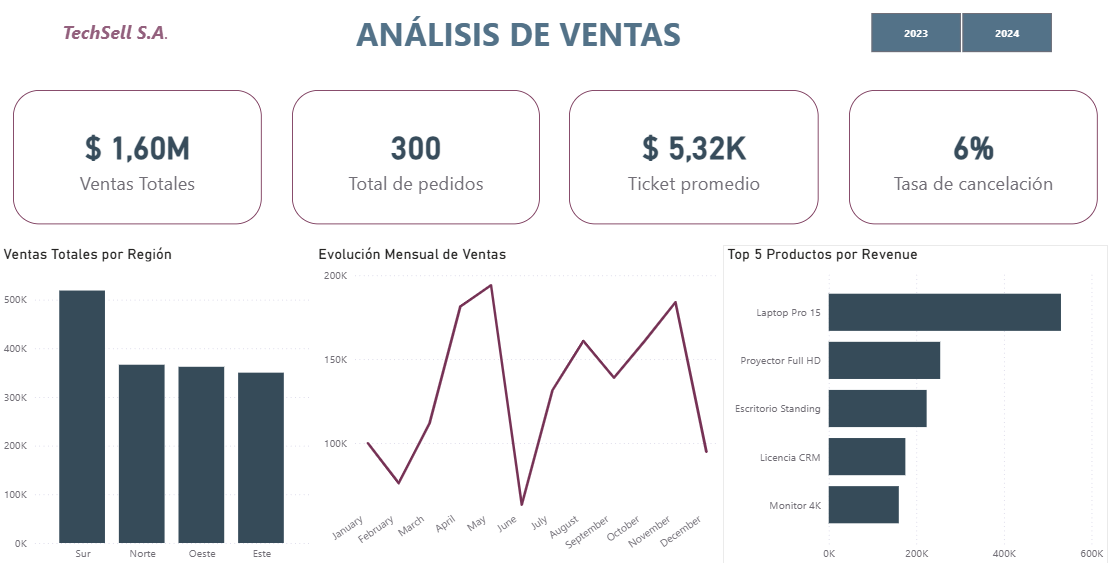

This screenshot's page, from the dashboard's own definition file:
{"tool":"powerbi","page":{"name":"Page 1","canvas":[1280,720],"ordinal":0},"visuals":[{"type":"card","fields":{"Values":["_medidas.Ventas Totales"]},"box":[16.2,143.1,287.3,154.6],"z":0},{"type":"card","fields":{"Values":["_medidas.Tasa de cancelación"]},"box":[980.8,143.1,287.3,154.6],"z":1000},{"type":"card","fields":{"Values":["_medidas.Total de pedidos"]},"box":[337.7,143.1,286.2,154.6],"z":2000},{"type":"card","fields":{"Values":["_medidas.Ticket promedio"]},"box":[658.1,143.1,288.5,154.6],"z":3000},{"type":"columnChart","title":"Ventas Totales por Región","fields":{"Category":["dim_clientes.region"],"Y":["_medidas.Ventas Totales"]},"box":[0,321.9,363.5,373.8],"z":4000},{"type":"clusteredBarChart","title":"Top 5 Productos por Revenue","fields":{"Category":["dim_productos.nombre_producto"],"Y":["_medidas.Ventas Totales"]},"box":[835.4,321.9,444.2,373.8],"z":5000},{"type":"lineChart","title":"Evolución Mensual de Ventas","fields":{"Category":["fact_pedidos.fecha_pedido.Variation.Date Hierarchy.Month"],"Y":["_medidas.Ventas Totales"]},"box":[363.5,321.9,471.9,373.8],"z":6000},{"type":"slicer","fields":{"Values":["fact_pedidos.fecha_pedido.Variation.Date Hierarchy.Year"]},"box":[980.3,47.5,258.1,59],"z":7000},{"type":"textbox","box":[390.6,47.3,416.5,58.8],"z":8000},{"type":"textbox","box":[52.1,56.4,165.5,41.7],"z":9000}]}

Visuals, with their boxes on the page's 1280x720 design canvas (x1, y1, x2, y2). These are canvas units, not pixel positions in the 1108x563 screenshot, which may show the page scaled, cropped or inside an application window:
card - _medidas.Ventas Totales: left=16, top=143, right=304, bottom=298
card - _medidas.Tasa de cancelación: left=981, top=143, right=1268, bottom=298
card - _medidas.Total de pedidos: left=338, top=143, right=624, bottom=298
card - _medidas.Ticket promedio: left=658, top=143, right=947, bottom=298
"Ventas Totales por Región" columnChart: left=0, top=322, right=364, bottom=696
"Top 5 Productos por Revenue" clusteredBarChart: left=835, top=322, right=1280, bottom=696
"Evolución Mensual de Ventas" lineChart: left=364, top=322, right=835, bottom=696
slicer - fact_pedidos.fecha_pedido.Variation.Date Hierarchy.Year: left=980, top=48, right=1238, bottom=106
textbox: left=391, top=47, right=807, bottom=106
textbox: left=52, top=56, right=218, bottom=98
